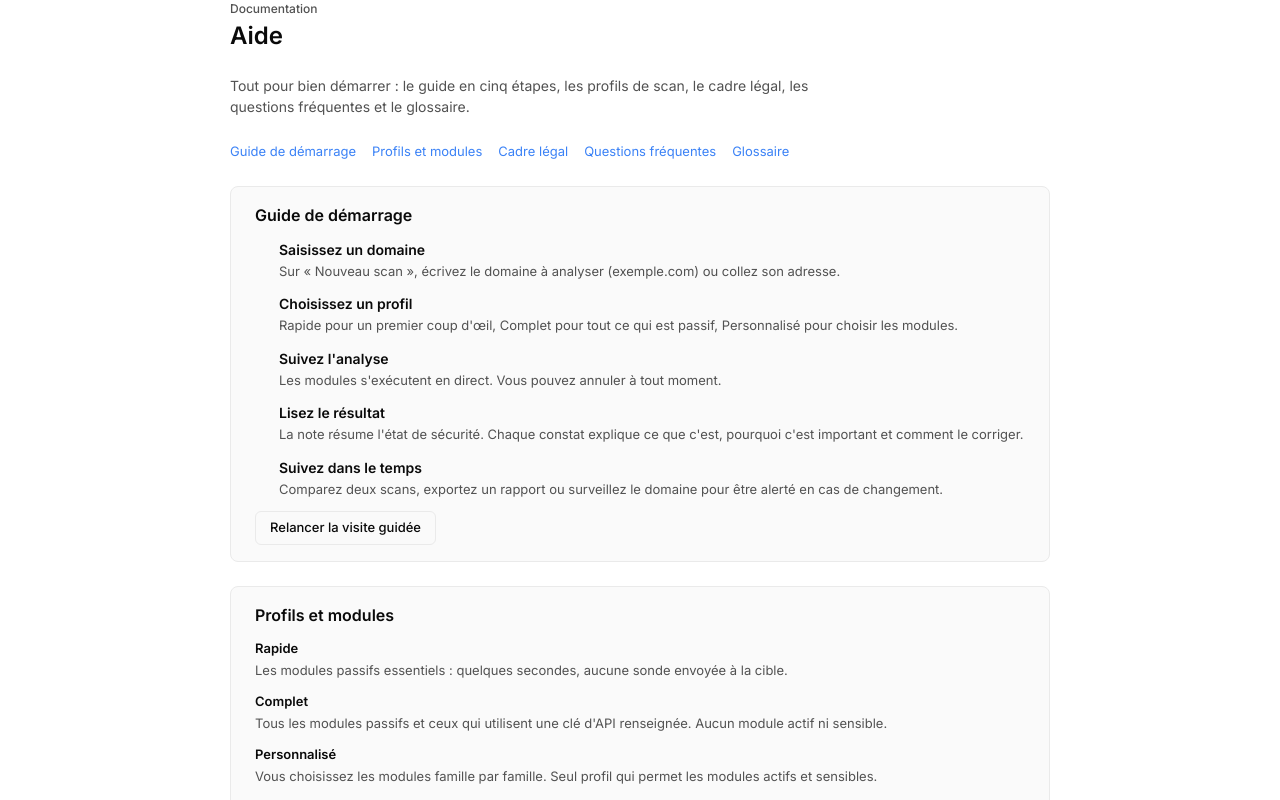
Test case: page Aide › le bouton « Relancer la visite guidée » relance la visite guidée
Click the button "Relancer la visite guidée".
click(346, 528)  # box [255,511,436,545]
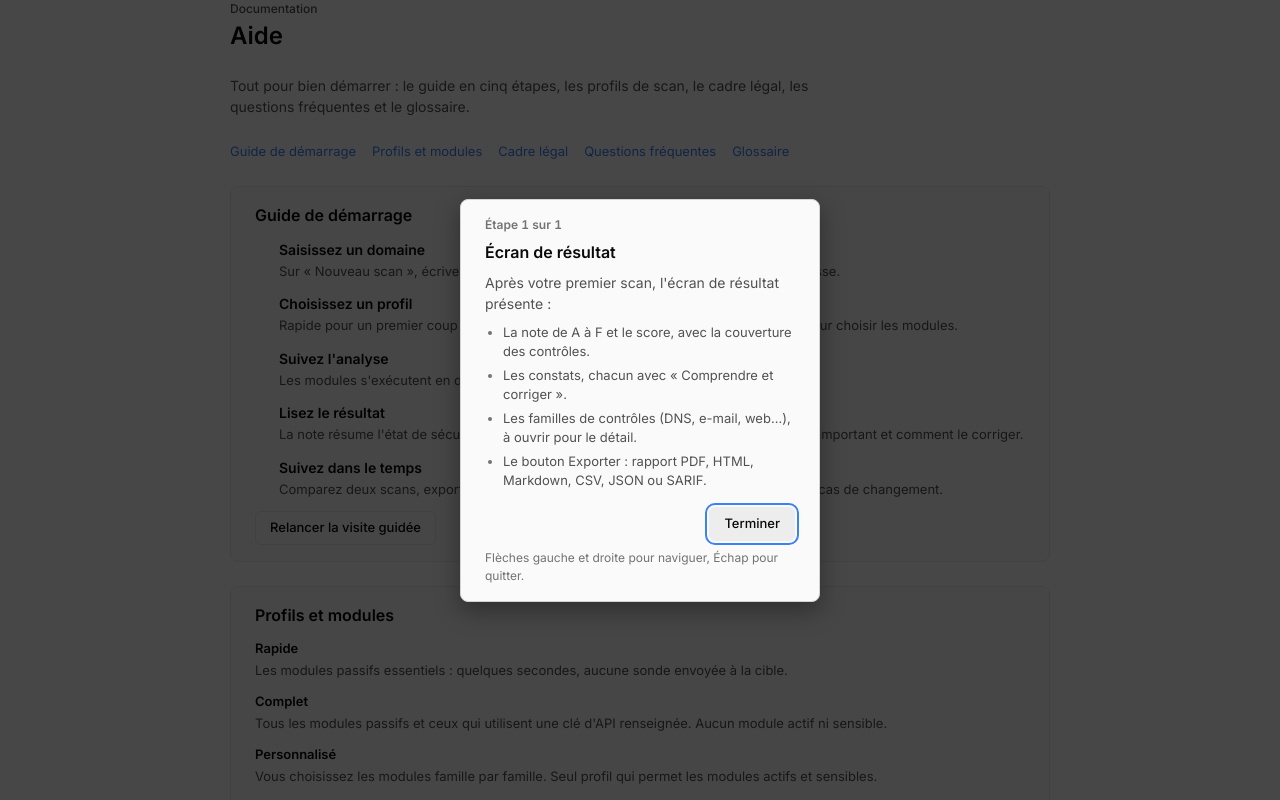
Expected: the text "Étape 1 sur 1" is shown, [485,217,562,232]
Click the button "Terminer".
click(752, 524)  # box [709,507,795,541]
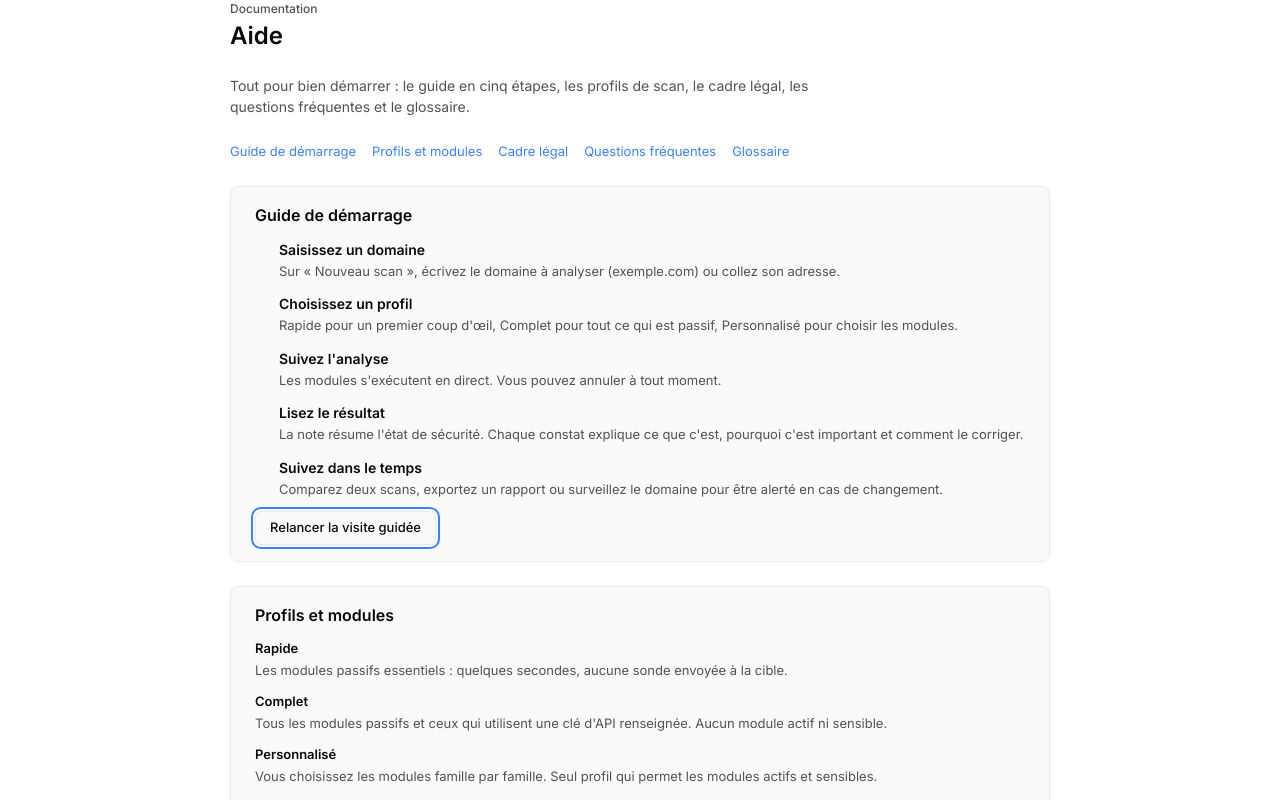
Expected: the dialog is gone
